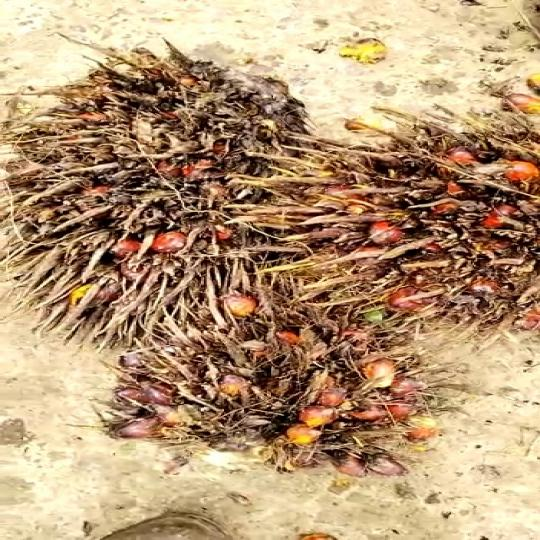terlalu masak: (2, 45, 301, 347), (222, 109, 540, 332), (100, 307, 433, 481)
